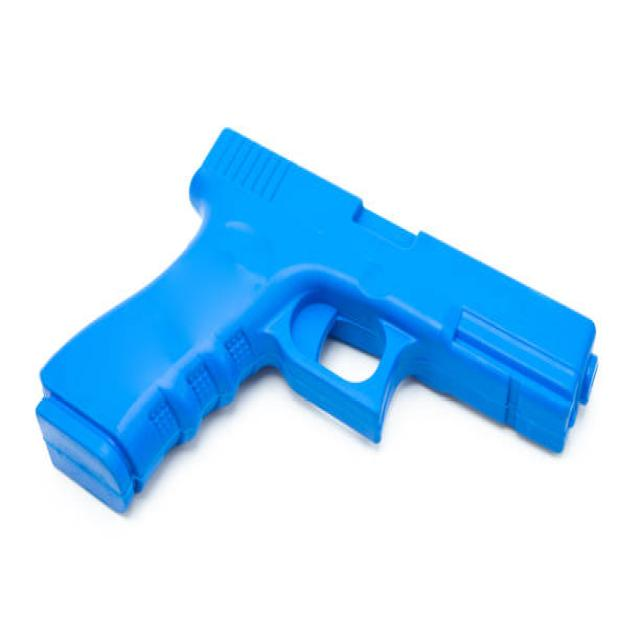pistol: (33, 122, 600, 521)
